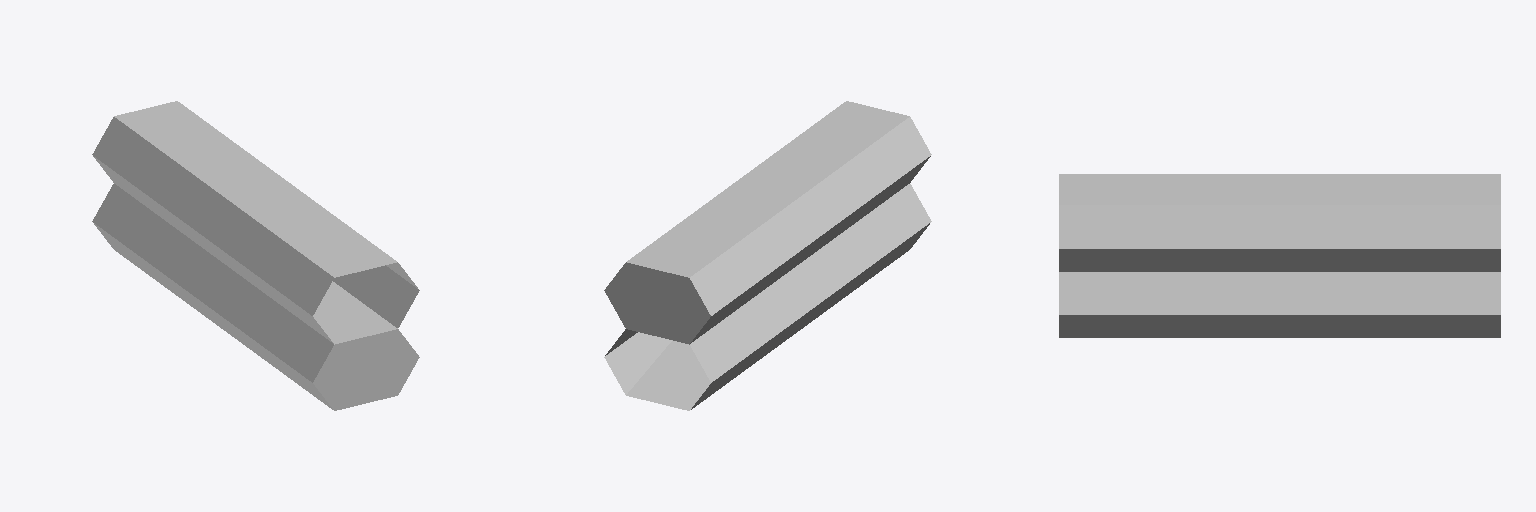
The model's file is stairs.obj.
3 renders of one model, left to right at view 1: azimuth 30°, elevation 25°; view 2: azimuth 150°, elevation 25°; view 3: azimuth 270°, elevation 25°, orthographic.
Visible parts, largest first — view 1: Cube.003_Cube.006; view 2: Cube.003_Cube.006; view 3: Cube.003_Cube.006.
Boxes of the visible parts, <box> form: Cube.003_Cube.006: <box>92,101,419,410</box>; Cube.003_Cube.006: <box>604,101,931,410</box>; Cube.003_Cube.006: <box>1059,174,1500,337</box>.
Size of the model in its own units: 3.36 by 4 by 12.